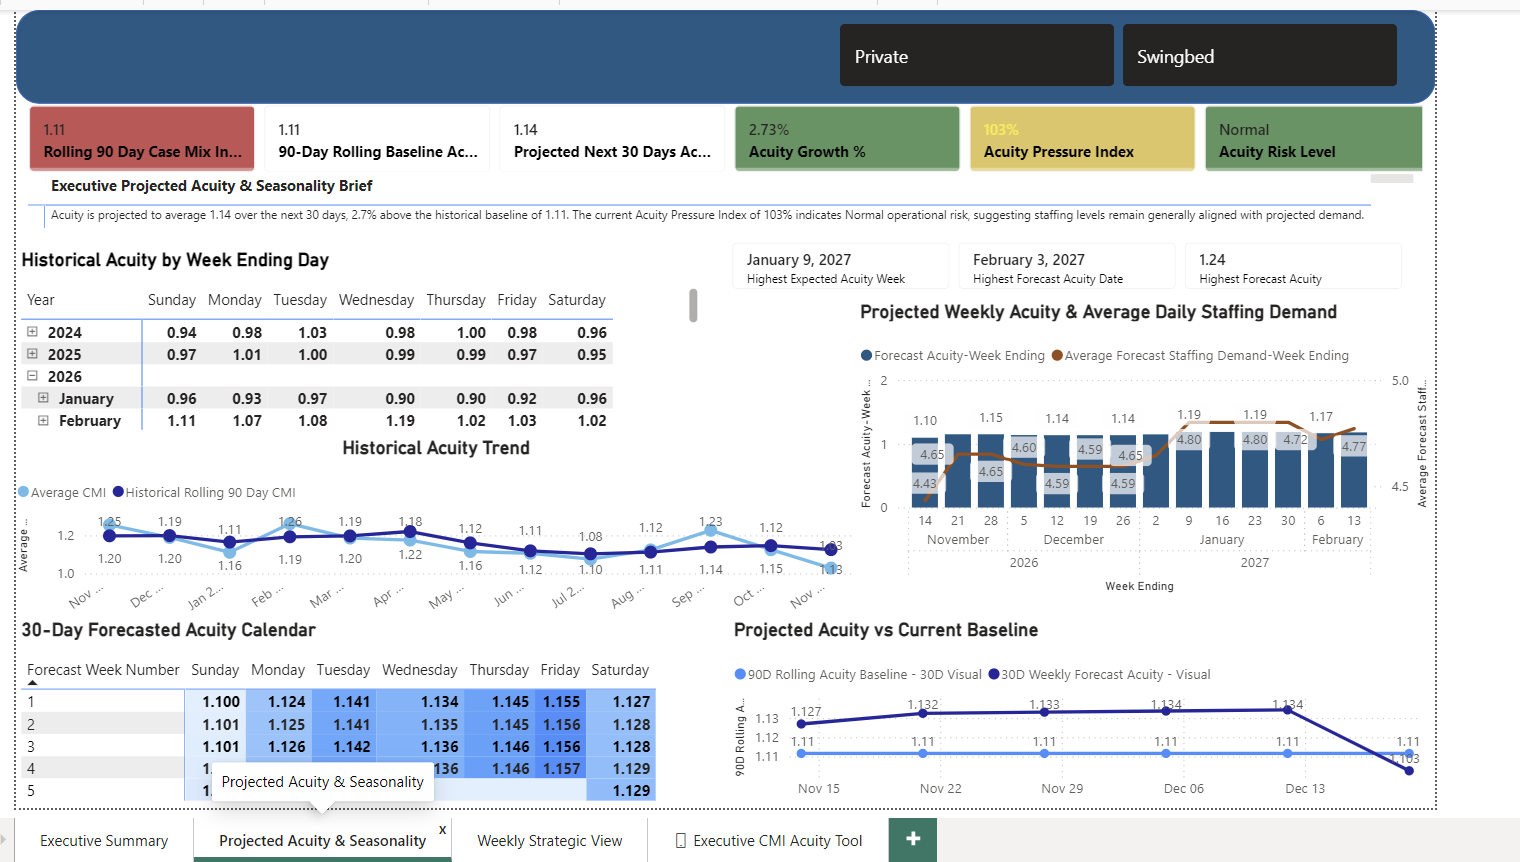

The page's visual inventory and layout, read from the dashboard file:
{"tool":"powerbi","page":{"name":"Projected Acuity &  Seasonality","canvas":[1280,720],"ordinal":1},"visuals":[{"type":"pivotTable","title":"Historical Acuity by Week Ending Day","fields":{"Columns":["Calendar.Day Name"],"Rows":["Calendar.Week Ending.Variation.Date Hierarchy.Year","Calendar.Week Ending.Variation.Date Hierarchy.Month","Calendar.Week Ending.Variation.Date Hierarchy.Day"],"Values":["Med-Surg DRG.Historical Acuity Index"]},"box":[0,215.8,620.2,168.3],"z":0},{"type":"pivotTable","title":"30-Day Forecasted Acuity Calendar","fields":{"Columns":["30 Days Acuity Forecast Calendar.Day Name"],"Rows":["30 Days Acuity Forecast Calendar.Forecast Week Number"],"Values":["Acuity Forecast Calendar.Forecast Acuity Calendar Matrix"]},"box":[0,548.9,723,171.2],"z":1000},{"type":"cardVisual","title":"Current Acuity","fields":{"Data":["Med-Surg DRG.Rolling 90 Days CMI","Med-Surg DRG.90-Day Rolling Baseline Acuity","Med-Surg DRG.Projected Next 30 Days Acuity","Med-Surg DRG.Acuity Growth %","Med-Surg DRG.Staffing Pressure Index","Med-Surg DRG.Acuity Risk Level"]},"box":[0,68.3,1280,89.6],"z":3000},{"type":"shape","box":[0,0,1280,84.5],"z":4000},{"type":"cardVisual","fields":{"Data":["Med-Surg DRG.Highest Expected Acuity Week","Acuity Forecast Calendar.Highest Forecast Acuity Date","Acuity Forecast Calendar.Highest Forecast Acuity"]},"box":[629,193.2,640.7,76.4],"z":5000},{"type":"lineChart","title":"Historical Acuity Trend","fields":{"Category":["Calendar.Month Year"],"Y":["Med-Surg DRG.Average CMI","Med-Surg DRG.Historical Rolling 90 Day CMI"]},"box":[0,384.3,756.8,164.7],"z":6000},{"type":"advancedSlicerVisual","fields":{"Values":["Med-Surg DRG.Enc Accommodation"]},"box":[737.7,7.3,513.6,66.1],"z":8000},{"type":"lineClusteredColumnComboChart","title":"Projected Weekly Acuity & Average Daily Staffing Demand","fields":{"Category":["Forecast Week Axis.Week Ending.Variation.Date Hierarchy.Year","Forecast Week Axis.Week Ending.Variation.Date Hierarchy.Month","Forecast Week Axis.Week Ending.Variation.Date Hierarchy.Day"],"Y":["30 Days Acuity Forecast Calendar.Weekly Forecast Acuity - Visual"],"Y2":["30 Days Acuity Forecast Calendar.Average Forecast Staffing Demand-Week Ending"]},"box":[756.6,262,523.2,268.9],"z":10000},{"type":"lineChart","title":"Projected Acuity vs Current Baseline","fields":{"Category":["Forecast Week Axis.Week Ending.Variation.Date Hierarchy.Year","Forecast Week Axis.Week Ending.Variation.Date Hierarchy.Quarter","Forecast Week Axis.Week Ending.Variation.Date Hierarchy.Month","Forecast Week Axis.Week Ending.Variation.Date Hierarchy.Day"],"Y":["Forecast Week Axis.90D Rolling Acuity Baseline - 30D Visual","Forecast Week Axis.30D Weekly Forecast Acuity - Visual"]},"box":[642,548.9,638,171.6],"z":13000},{"type":"pivotTable","fields":{"Values":["Med-Surg DRG.Executive Acuity Brief"]},"box":[5.9,142.5,1263.8,63.9],"z":14000}]}

Visuals, with their boxes on the page's 1280x720 design canvas (x1, y1, x2, y2). These are canvas units, not pixel positions in the 1520x862 screenshot, which may show the page scaled, cropped or inside an application window:
"Historical Acuity by Week Ending Day" pivotTable: 0,216,620,384
"30-Day Forecasted Acuity Calendar" pivotTable: 0,549,723,720
"Current Acuity" cardVisual: 0,68,1280,158
shape: 0,0,1280,84
cardVisual - Med-Surg DRG.Highest Expected Acuity Week x Acuity Forecast Calendar.Highest Forecast Acuity Date: 629,193,1270,270
"Historical Acuity Trend" lineChart: 0,384,757,549
advancedSlicerVisual - Med-Surg DRG.Enc Accommodation: 738,7,1251,73
"Projected Weekly Acuity & Average Daily Staffing Demand" lineClusteredColumnComboChart: 757,262,1280,531
"Projected Acuity vs Current Baseline" lineChart: 642,549,1280,720
pivotTable - Med-Surg DRG.Executive Acuity Brief: 6,142,1270,206
